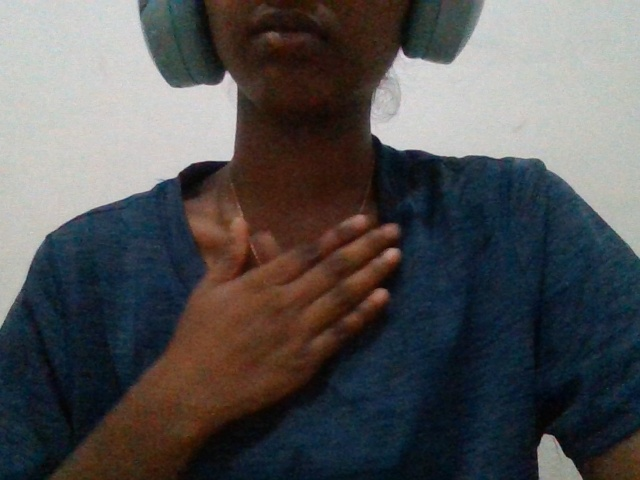Please: (105, 200, 444, 447)
